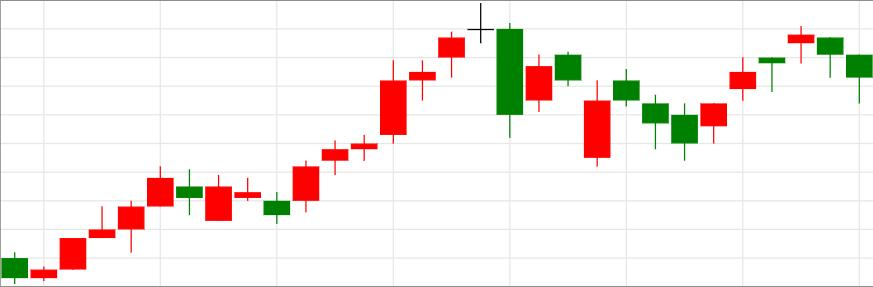evening_star_fall: (263, 1, 523, 225)
